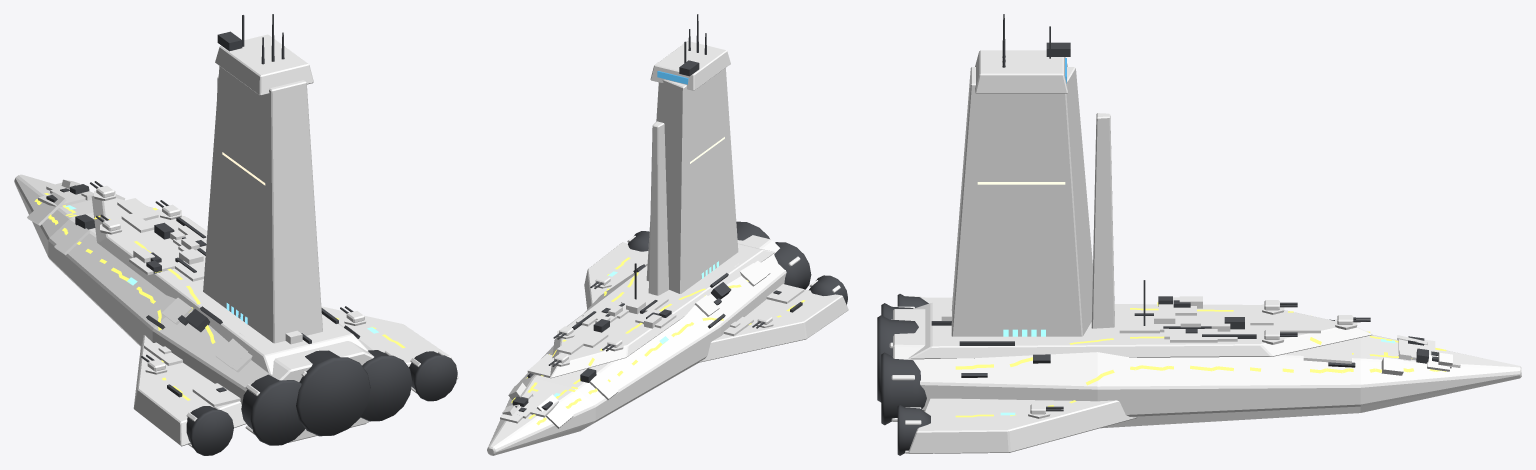
The model's file is flagman.glb.
3 views of the same model, side by side, from view 1: azimuth 30°, elevation 25°; view 2: azimuth 150°, elevation 25°; view 3: azimuth 270°, elevation 25° (orthographic). The views are drawn at different scales.
Parts seen in each view (by area): view 1: Башня, Корпус, Палуба, Накладные_плиты, Кожух_дюзы.004, Ангарное_крыло.001, Мостик, Кожух_дюзы.002, Механика, Кожух_дюзы, Ангарное_крыло, Кожух_дюзы.001 (+2 smaller); view 2: Башня, Корпус, Накладные_плиты, Палуба, Ангарное_крыло.001, Ребро_башни, Мостик, Механика, Ангарное_крыло, Кожух_дюзы.002, Разметка, Кожух_дюзы.003 (+1 smaller); view 3: Башня, Корпус, Палуба, Ангарное_крыло, Накладные_плиты, Ребро_башни, Мостик, Механика, Кожух_дюзы, Разметка, Кожух_дюзы.004, Кожух_дюзы.001.
Part boxes in pixels (box(x1,y1,x2,y2)): Башня: box(203, 66, 322, 343); Корпус: box(14, 174, 373, 442); Палуба: box(91, 196, 368, 375); Накладные_плиты: box(27, 179, 302, 406); Кожух_дюзы.004: box(296, 350, 370, 436); Ангарное_крыло.001: box(133, 335, 246, 446); Мостик: box(215, 34, 313, 95); Кожух_дюзы.002: box(241, 374, 305, 445); Механика: box(46, 15, 360, 397); Кожух_дюзы: box(360, 350, 412, 421); Ангарное_крыло: box(321, 306, 458, 379); Кожух_дюзы.001: box(409, 351, 457, 401); Башня: box(646, 68, 738, 293); Корпус: box(487, 235, 786, 455); Накладные_плиты: box(500, 261, 804, 428); Палуба: box(550, 243, 775, 378); Ангарное_крыло.001: box(698, 289, 848, 362); Ребро_башни: box(648, 121, 669, 295); Мостик: box(650, 41, 730, 90); Механика: box(512, 41, 802, 411); Ангарное_крыло: box(584, 242, 648, 309); Кожух_дюзы.002: box(774, 242, 811, 289); Разметка: box(511, 257, 805, 425); Кожух_дюзы.003: box(809, 275, 847, 304); Башня: box(951, 67, 1092, 336); Корпус: box(893, 308, 1521, 428); Палуба: box(908, 302, 1372, 359); Ангарное_крыло: box(908, 398, 1136, 453); Накладные_плиты: box(941, 296, 1460, 375); Ребро_башни: box(1091, 113, 1114, 328); Мостик: box(975, 50, 1067, 93); Механика: box(931, 26, 1438, 377); Кожух_дюзы: box(881, 352, 926, 425); Разметка: box(955, 302, 1446, 417); Кожух_дюзы.004: box(877, 315, 918, 402); Кожух_дюзы.001: box(897, 405, 930, 455).
Size of the model in its own units: 1.12 by 1.48 by 2.2.
